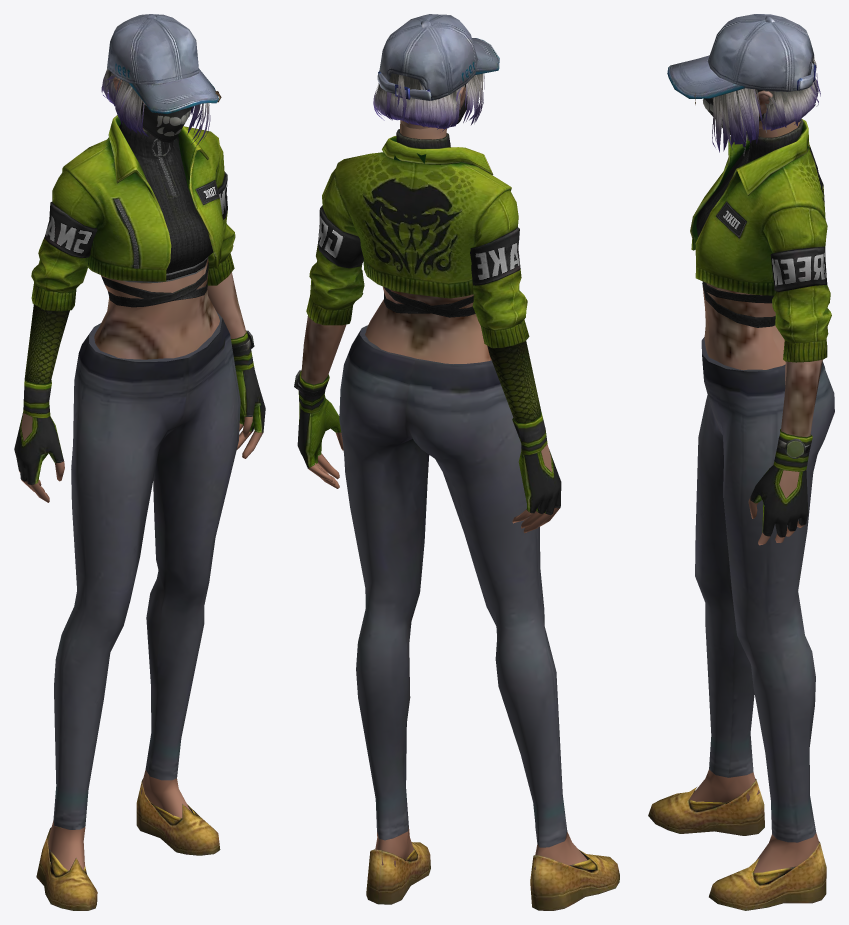
Rendered from ff-mask.glb.
The picture shows the model from 3 angles, left to right: view 1: azimuth 30°, elevation 25°; view 2: azimuth 150°, elevation 25°; view 3: azimuth 270°, elevation 25°; orthographic projection. The views are drawn at different scales.
Visible parts, largest first — view 1: Object_3, Object_6, Object_5, Object_4, Object_2, Object_8, Object_7; view 2: Object_3, Object_6, Object_5, Object_4, Object_2, Object_8; view 3: Object_3, Object_6, Object_5, Object_4, Object_2, Object_8.
Boxes of the visible parts, x1=… form: Object_3: x1=53, y1=311, x2=240, y2=829; Object_6: x1=14, y1=115, x2=265, y2=484; Object_5: x1=19, y1=77, x2=263, y2=870; Object_4: x1=107, y1=14, x2=221, y2=114; Object_2: x1=36, y1=778, x2=220, y2=910; Object_8: x1=101, y1=69, x2=210, y2=147; Object_7: x1=122, y1=80, x2=191, y2=142; Object_3: x1=339, y1=325, x2=567, y2=847; Object_6: x1=294, y1=129, x2=561, y2=515; Object_5: x1=301, y1=86, x2=587, y2=869; Object_4: x1=377, y1=14, x2=499, y2=100; Object_2: x1=366, y1=842, x2=619, y2=910; Object_8: x1=373, y1=73, x2=484, y2=131; Object_3: x1=695, y1=337, x2=834, y2=842; Object_6: x1=690, y1=118, x2=831, y2=537; Object_5: x1=689, y1=89, x2=822, y2=872; Object_4: x1=667, y1=14, x2=816, y2=104; Object_2: x1=648, y1=778, x2=826, y2=910; Object_8: x1=712, y1=56, x2=820, y2=152.
Bounding box in the file's own units: 1.99 × 6.18 × 1.21.
Materials: 7 (7 with a texture image).
